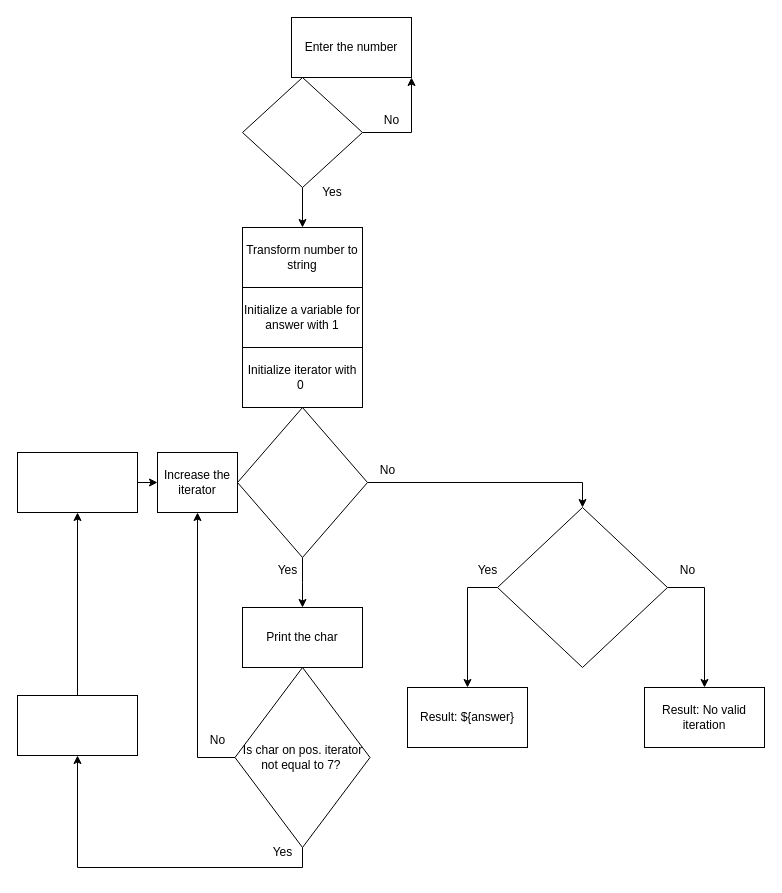
This 782x893 diagram has some shape labels left out. Here are the shapes that lost their labels. From the top down, the centre of each, then its label:
point 302,132: Is it integer?
point 77,482: Save the successful iteration with bool
point 302,482: Is iterator less then number length?
point 582,587: Was there any successful iteration?
point 77,725: Increase the answer
